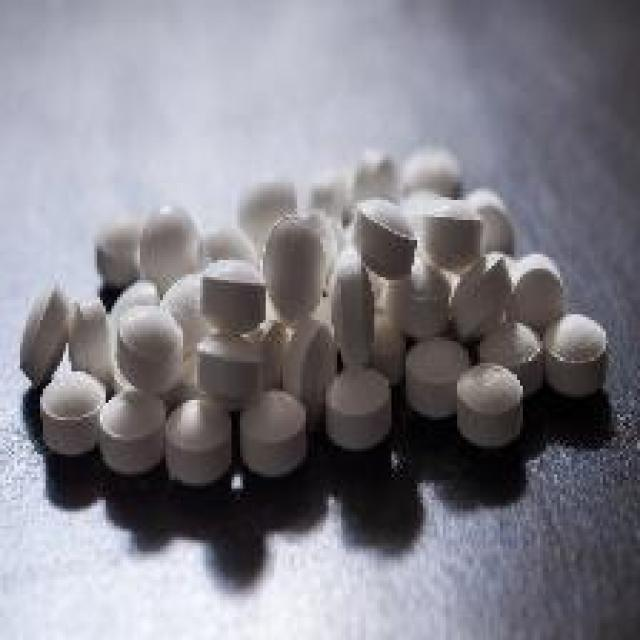Medicine: (0, 135, 640, 539)
